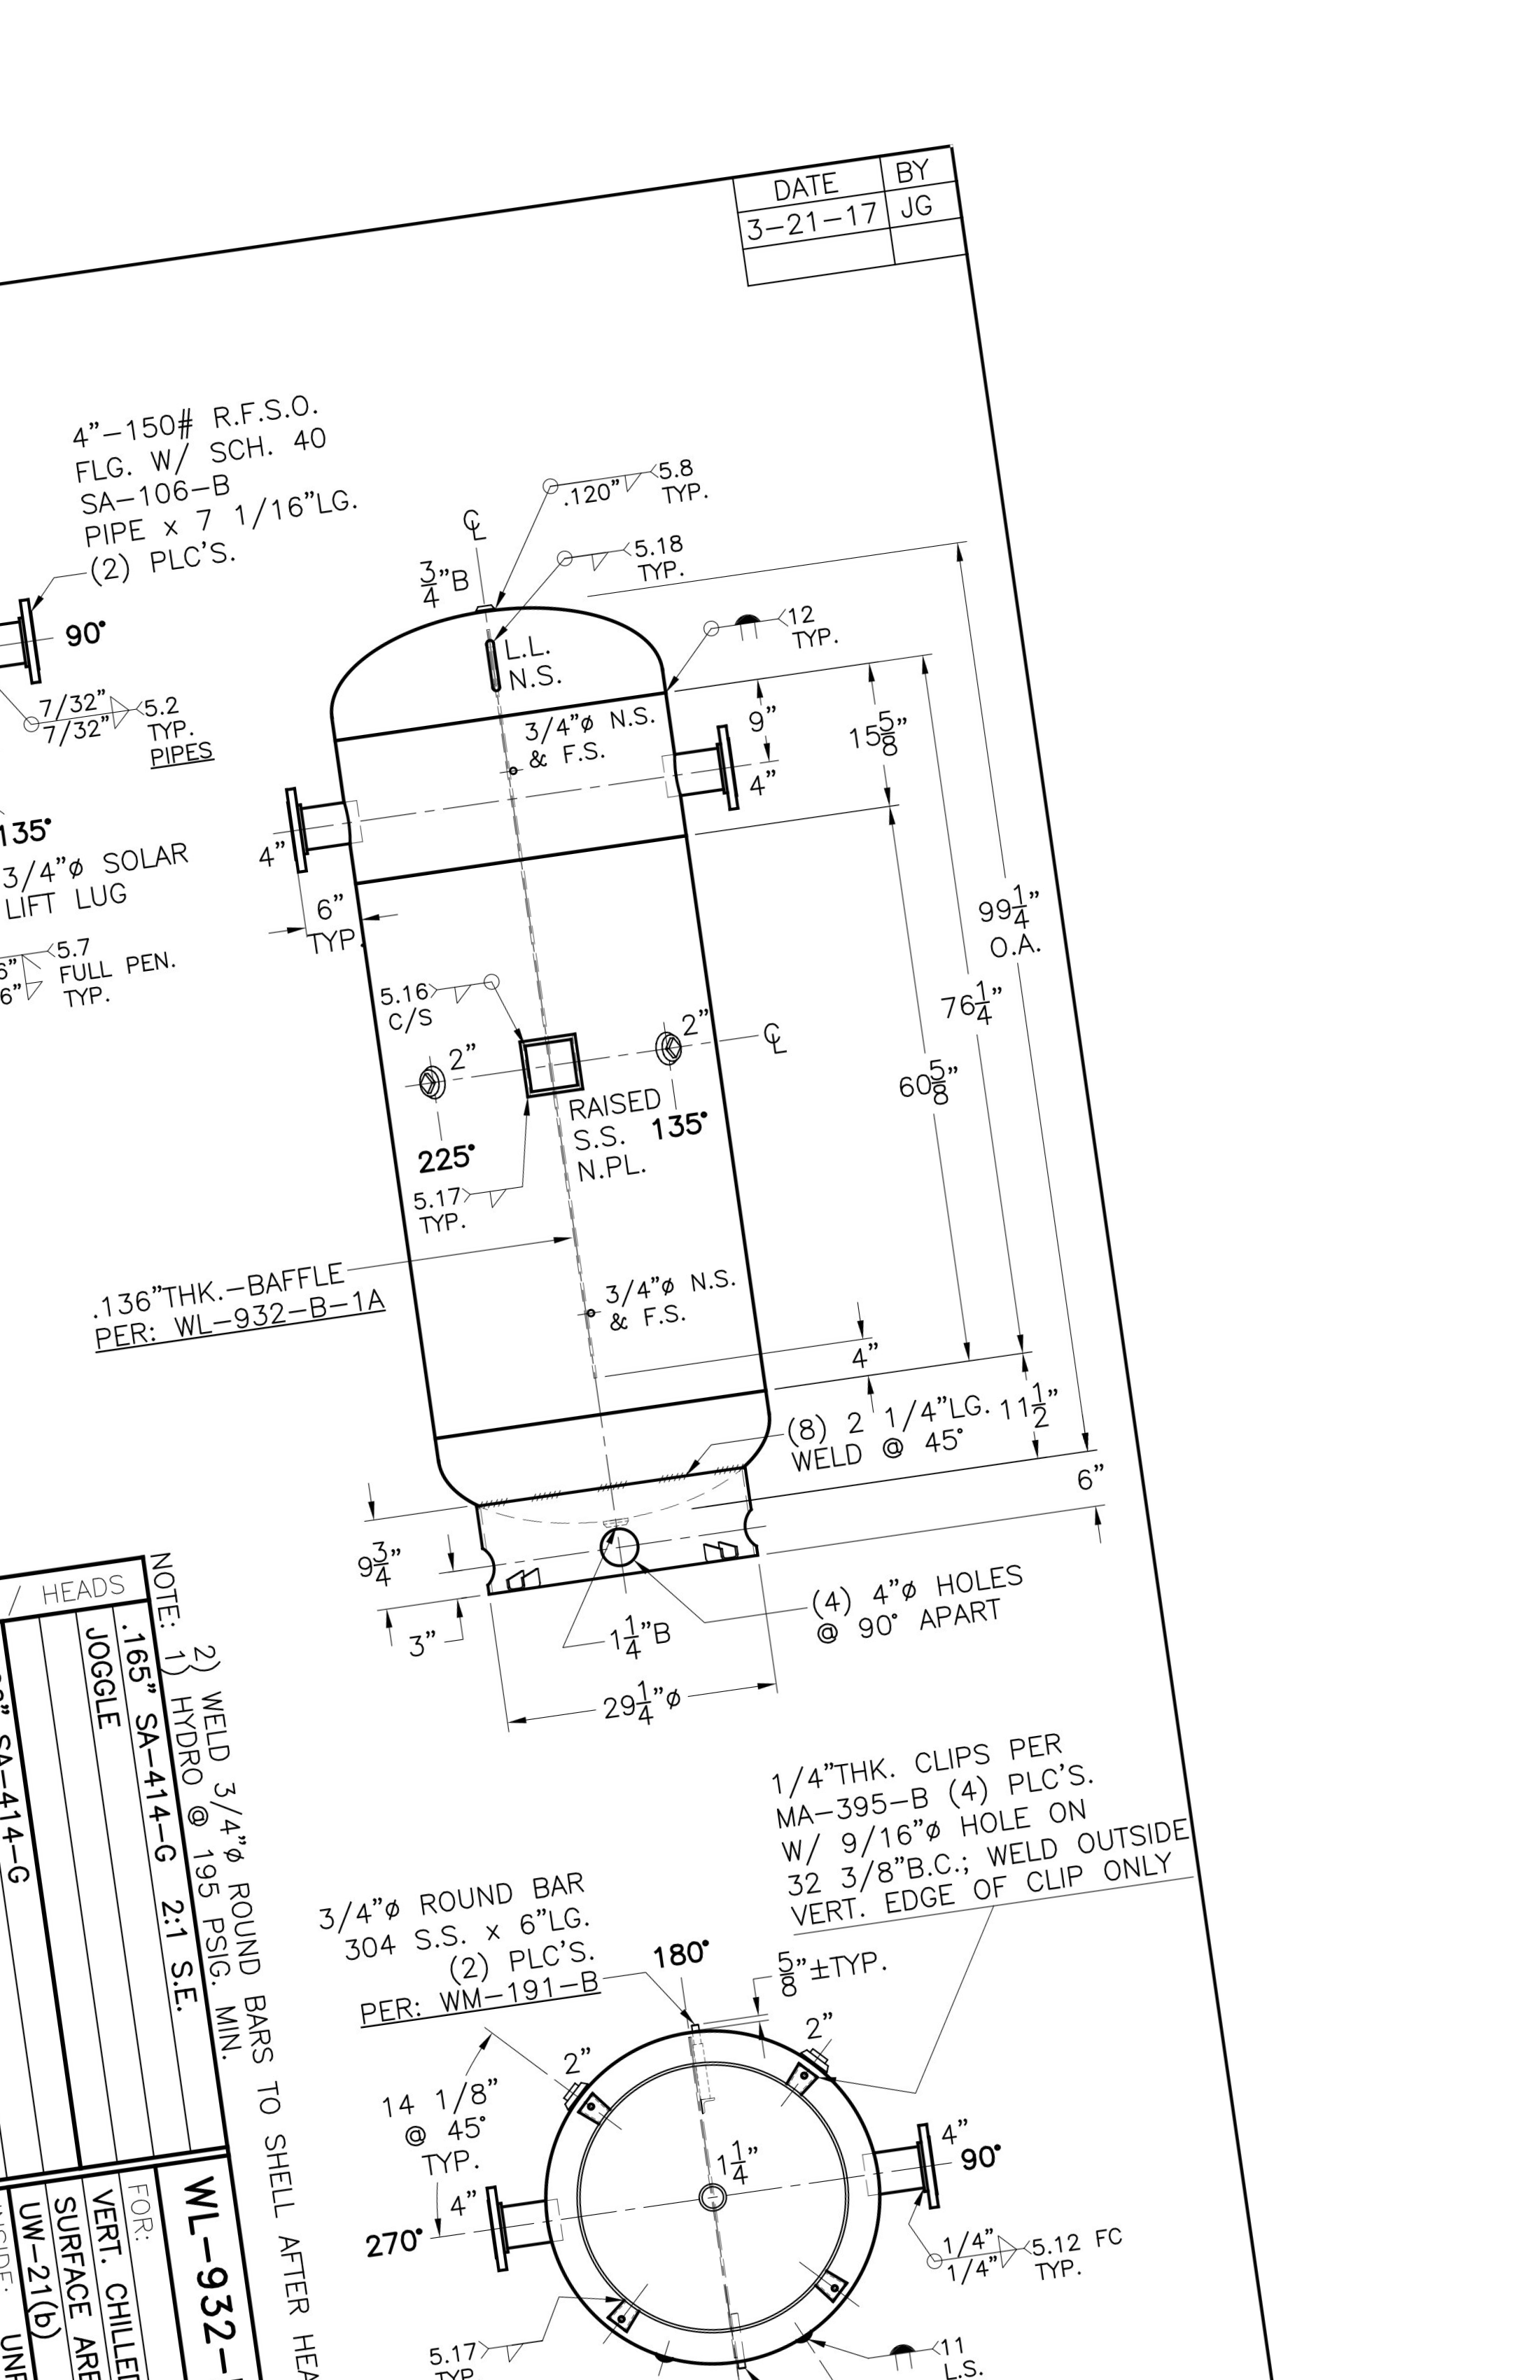Nozzle: (642, 722, 791, 869), (253, 774, 378, 893), (838, 2127, 978, 2227), (477, 2181, 574, 2292)
